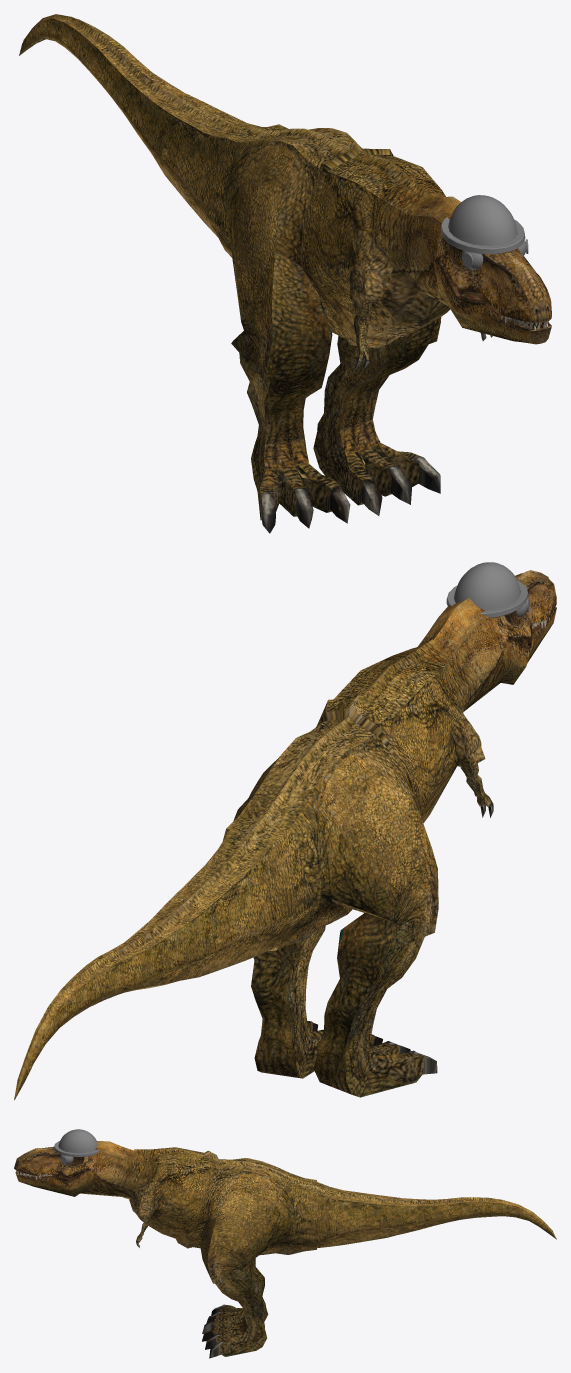
File: SM_DummyRex2obj.obj
3 views of the same model, one above another, from view 1: azimuth 30°, elevation 25°; view 2: azimuth 150°, elevation 25°; view 3: azimuth 270°, elevation 25° (orthographic). The views are drawn at different scales.
Parts seen in each view (by area): view 1: Rex; view 2: Rex; view 3: Rex.
Part boxes in pixels (left/top/right/bottom): Rex: left=19, top=14, right=551, bottom=533; Rex: left=14, top=562, right=556, bottom=1100; Rex: left=14, top=1129, right=556, bottom=1358.
Bounding box in the file's own units: 11.79 × 26.53 × 63.28.
Materials: 7 (6 with a texture image).
